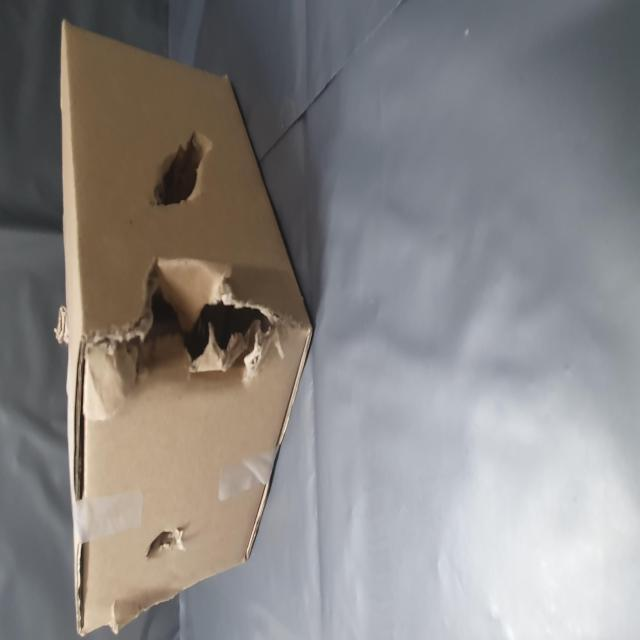damaged: (145, 182, 214, 500), (237, 259, 288, 383), (34, 249, 73, 333)
